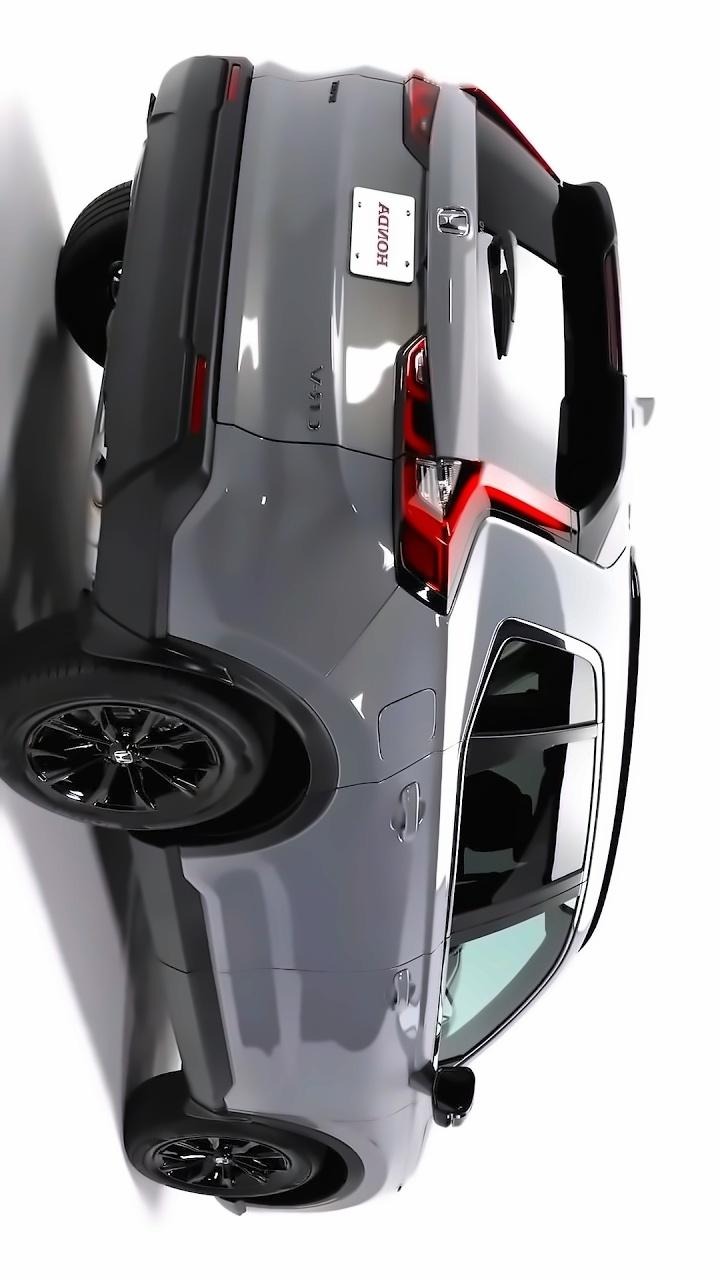Car boot: (200, 34, 662, 561)
Driver-s door - -F-R-: (107, 874, 612, 1134)
Fender - -F-R-: (196, 1078, 458, 1208)
Fender - -R-R-: (116, 530, 644, 798)
Passenger-s door - -R-R-: (108, 682, 653, 979)
Rear bumper: (70, 52, 289, 686)
Rear light - -L-: (400, 66, 450, 165)
Rear light - -R-: (380, 326, 587, 616)
Side bumper - -R-: (100, 828, 280, 1128)
Side mirror - -R-: (408, 1054, 472, 1130)
